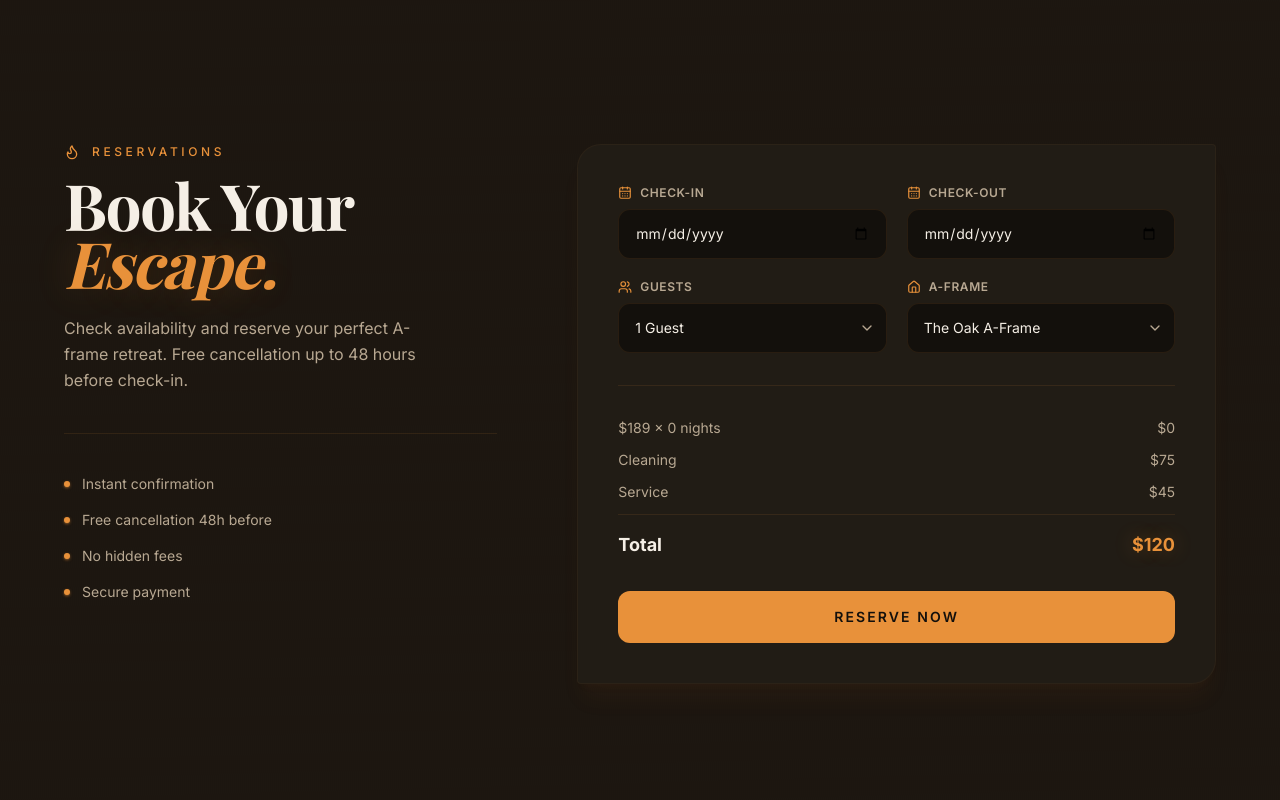
Test case: Booking Form Interaction › shows confirmation modal with correct details
Type "2025-03-15" into the date field labelled "Check-in". click: (752, 234)
box: 618,209 -> 887,259
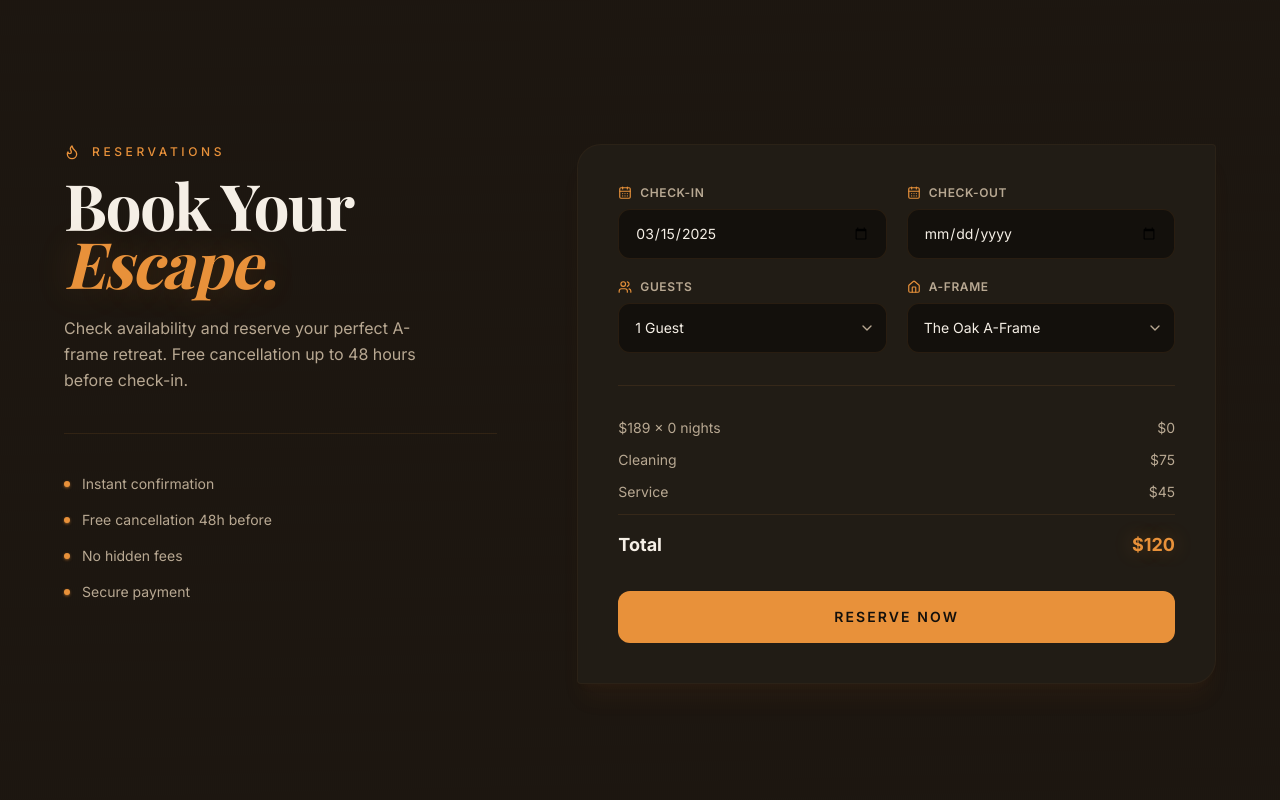
Type "2025-03-18" into the date field labelled "Check-out". click: (1041, 234)
box: 907,209 -> 1175,259
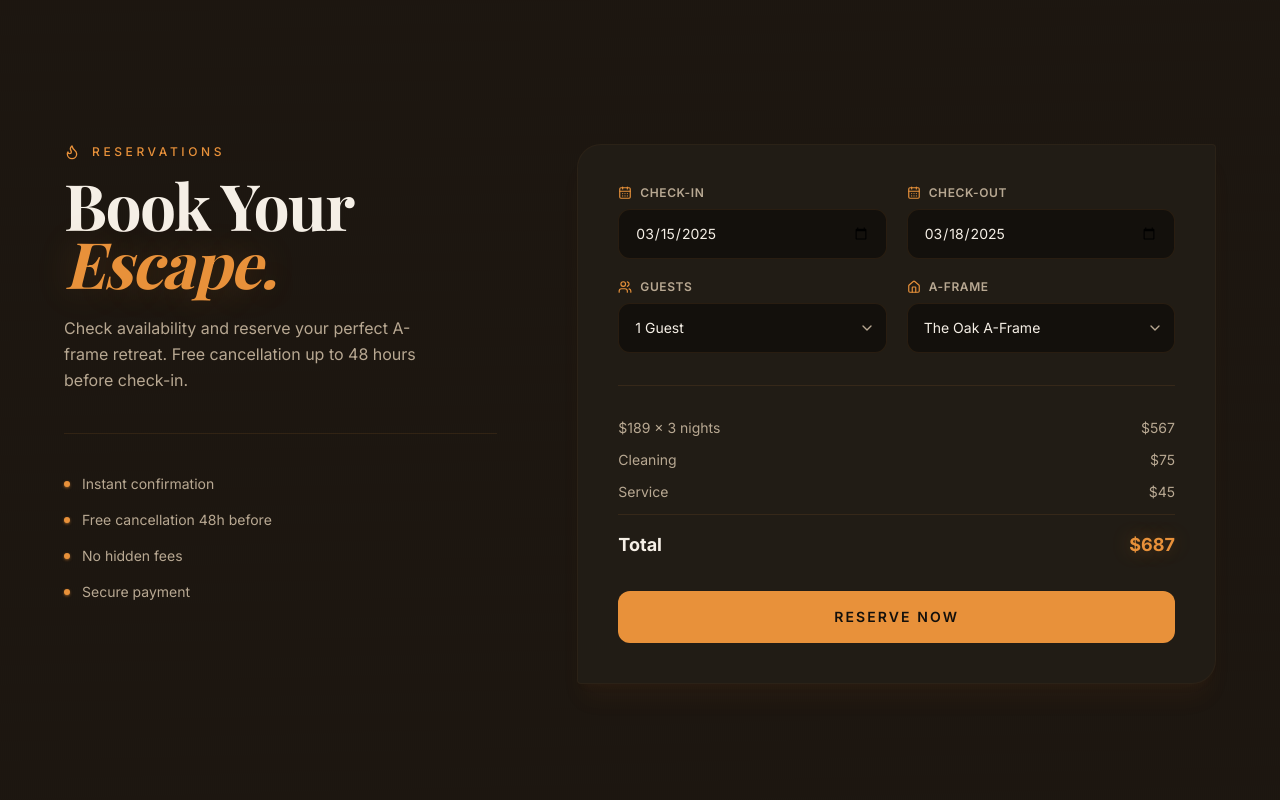
Select "The Pine A-Frame" in the dropdown labelled "A-Frame". click: (1041, 328)
box: 907,303 -> 1175,353
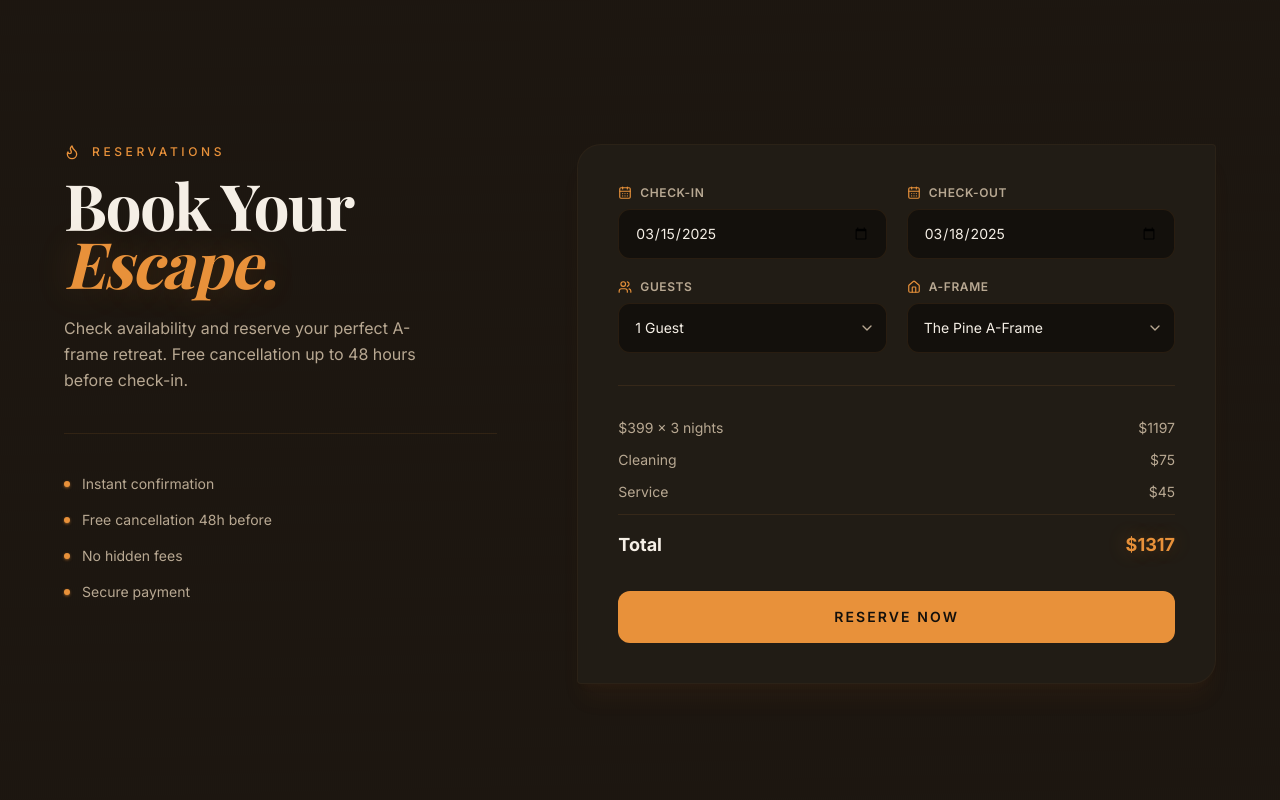
Click the button "Reserve Now". click: (897, 617)
box: 618,591 -> 1175,643
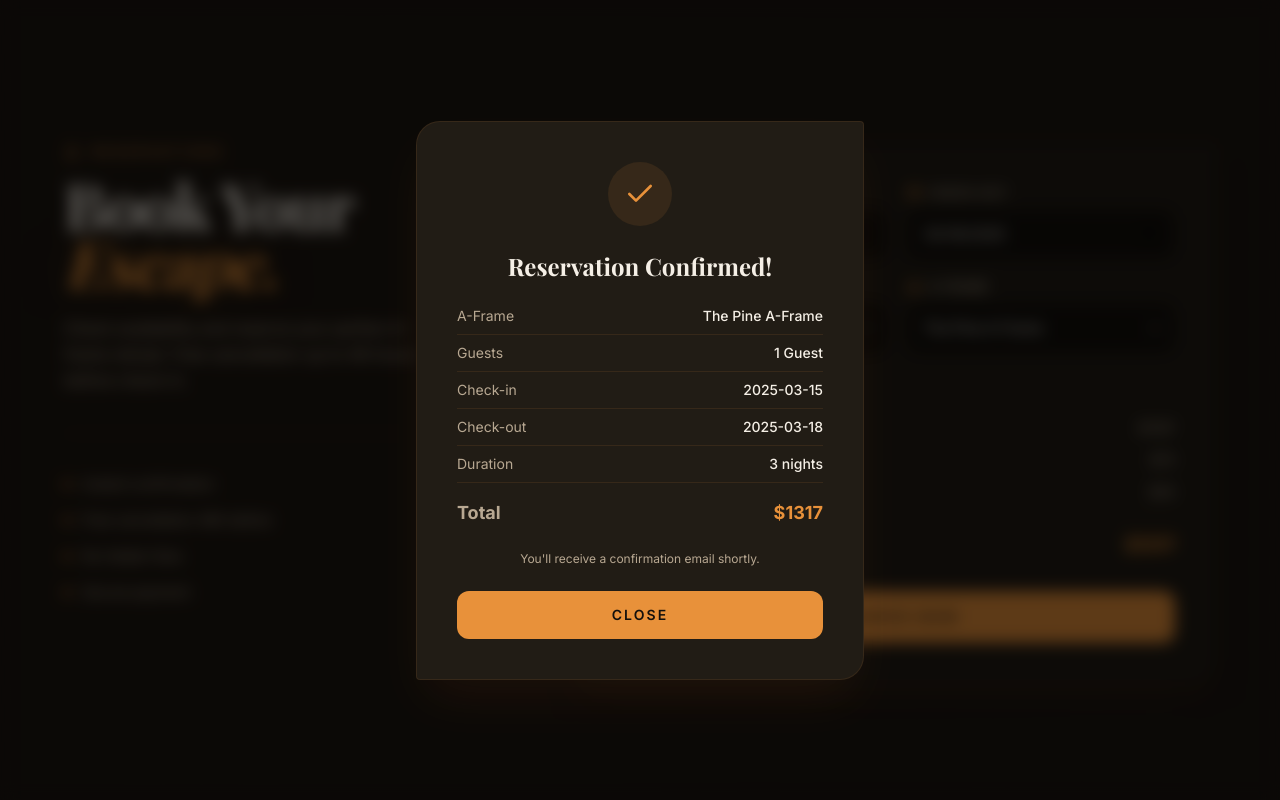
Result: the heading "Reservation Confirmed!" is shown at 508,250 -> 772,282
Result: the text "3 nights" is shown at 769,454 -> 823,474
